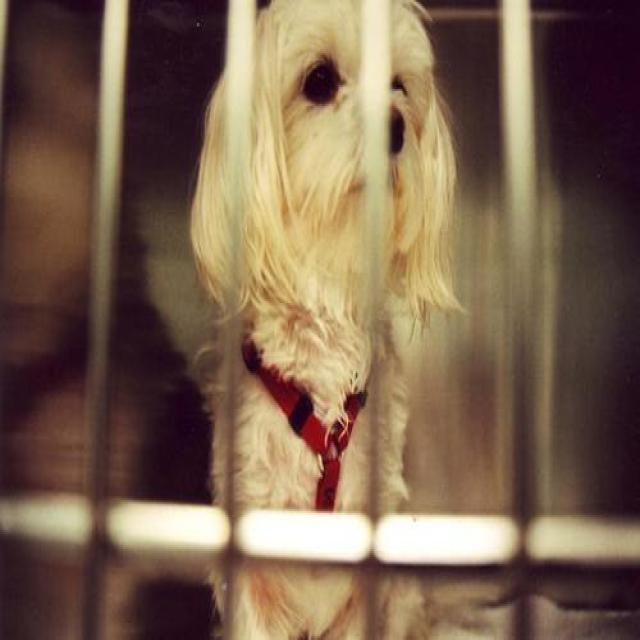sad: (194, 0, 486, 494)
